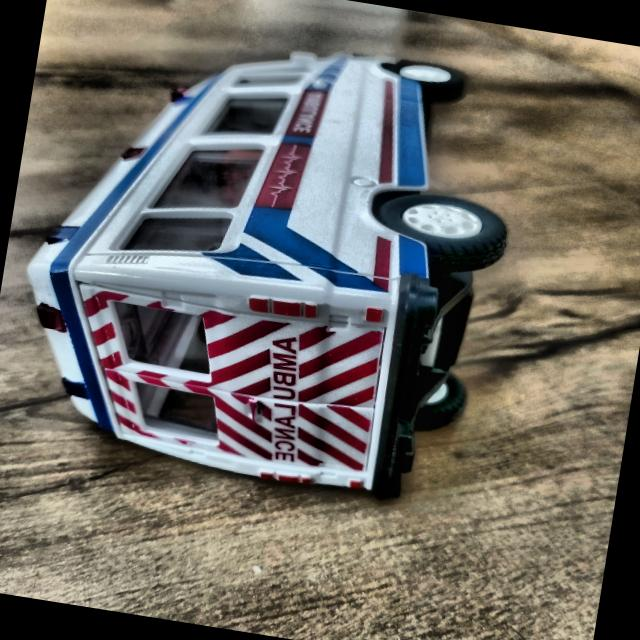Ambulance: (0, 0, 547, 531)
